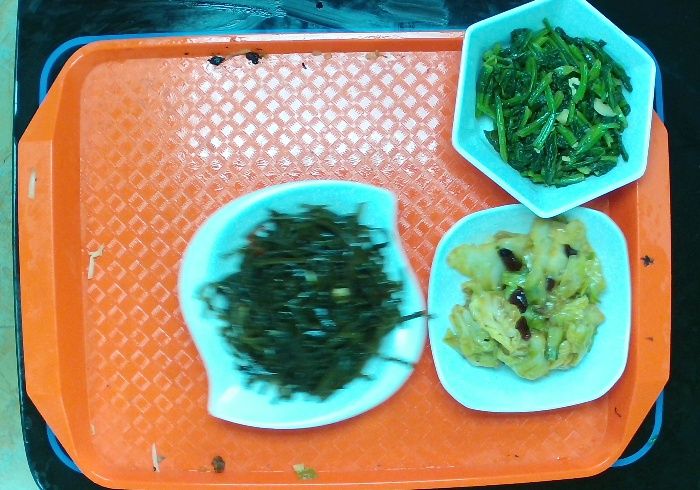RJxy-Liu_Jiao_Wan: (448, 3, 660, 221)
RJxy-Shuang_Jiao_Pan: (174, 174, 434, 441)
RJxy-Si_Fang_Wan: (422, 198, 637, 420)
